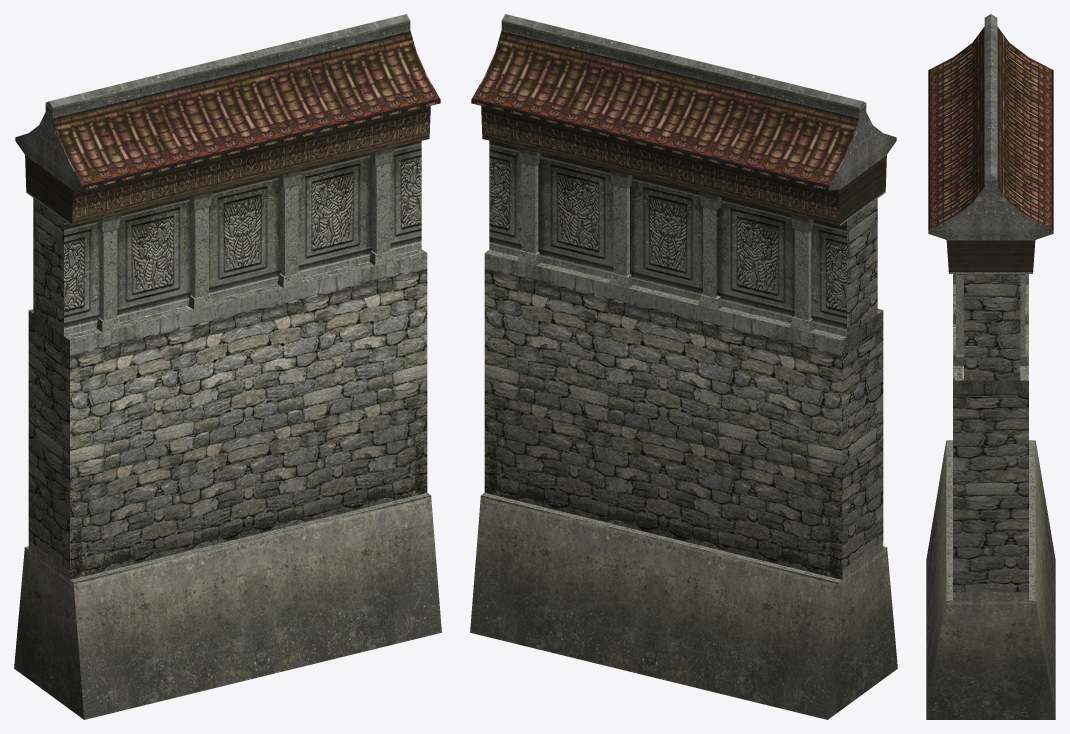
The model's file is a1-middledam-03.fbx.
The picture shows the model from 3 angles, left to right: view 1: azimuth 30°, elevation 25°; view 2: azimuth 150°, elevation 25°; view 3: azimuth 270°, elevation 25°; orthographic projection. The views are drawn at different scales.
Visible parts, largest first — view 1: b1-middledam-03; view 2: b1-middledam-03; view 3: b1-middledam-03.
Boxes of the visible parts, left/top/right/bottom form: b1-middledam-03: left=14, top=14, right=441, bottom=719; b1-middledam-03: left=470, top=14, right=897, bottom=719; b1-middledam-03: left=926, top=14, right=1055, bottom=719.
Size of the model in its own units: 5 by 7.92 by 1.7.
